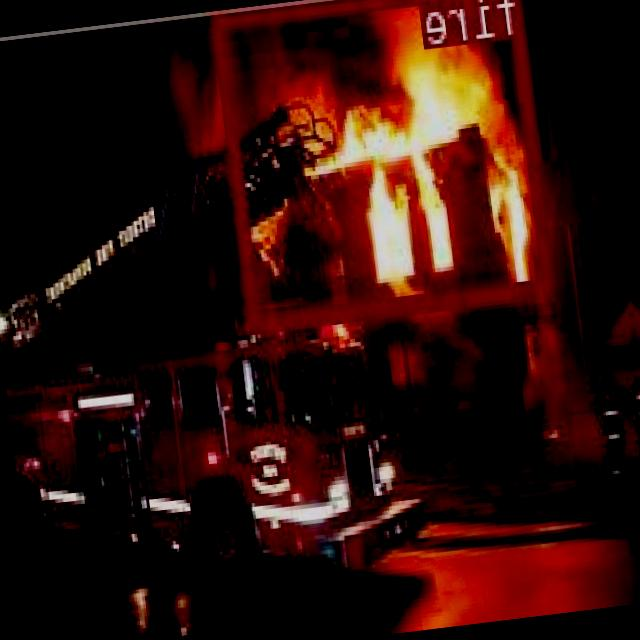fire: (213, 0, 556, 326)
